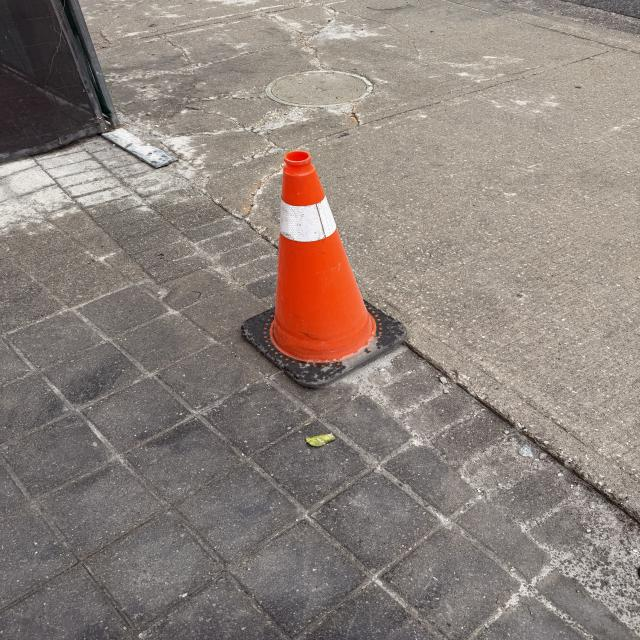Traffic Cone: (239, 153, 409, 388)
